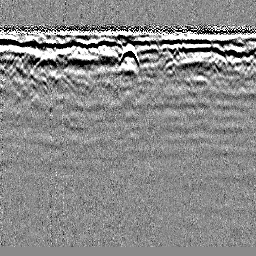cavity: (117, 42, 139, 67)
